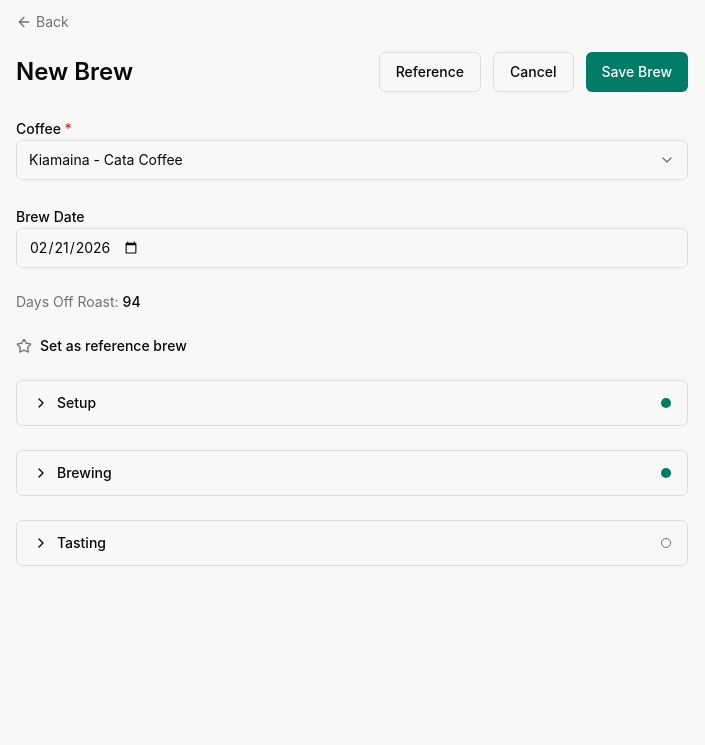
Test case: BrewFormPage › pre-fills only setup/brewing for Brew Again (not outcomes)
The image size is (705, 745).
Expected: the heading "New Brew" is shown, [16,56,133,88]
# Expand Tasting to check that outcomes are NOT pre-filled
Click the button "Tasting" at (82, 542), box [17,521,687,565]
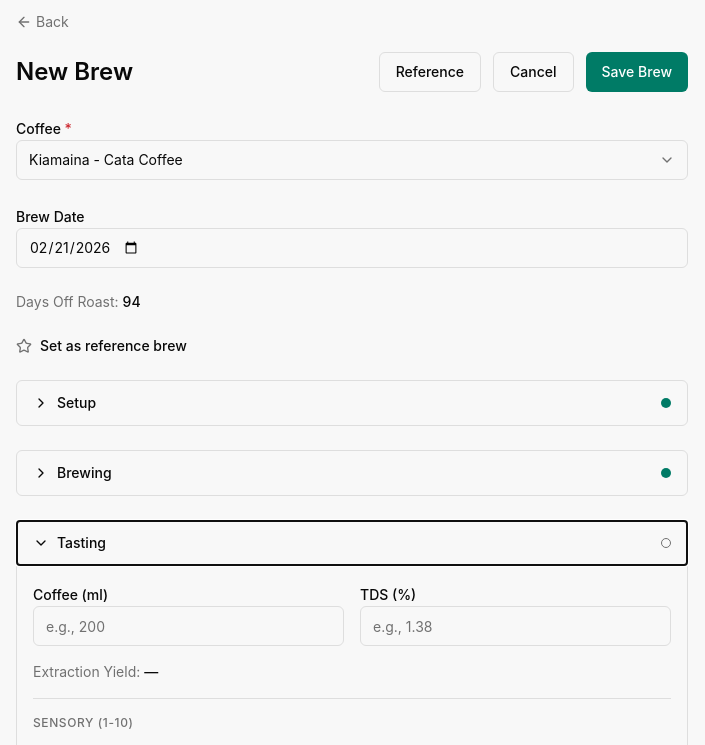
# But setup fields should be pre-filled when we expand the section
Click the button "Setup" at (77, 402), box [17,381,687,425]
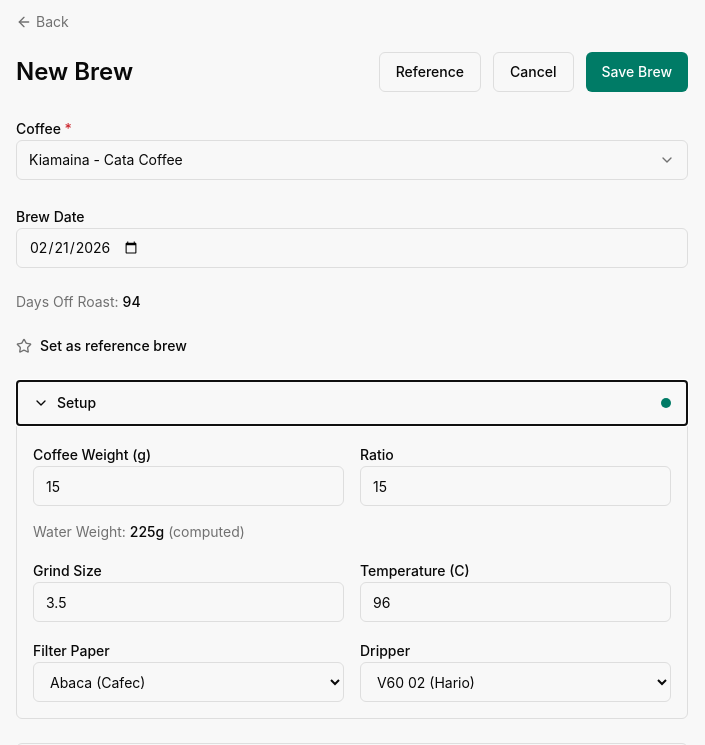
Expected: the number field labelled "Coffee Weight (g)" holds "15", [33,466,344,506]
